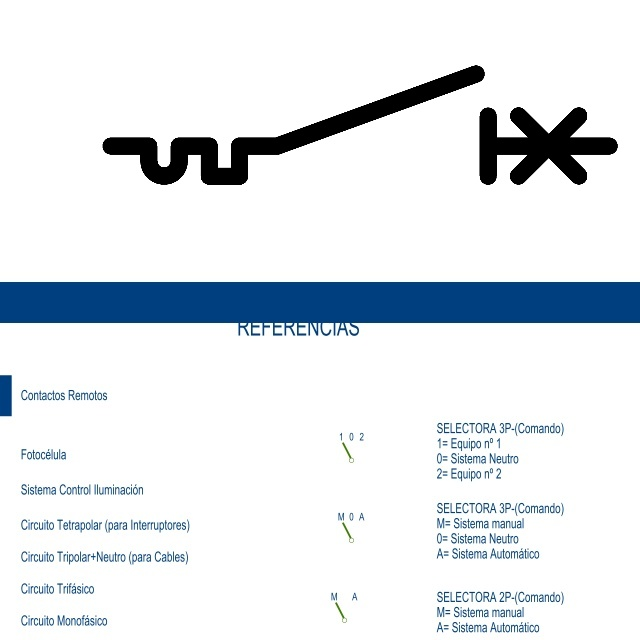interruptor_termomagnetico: (98, 61, 622, 189)
